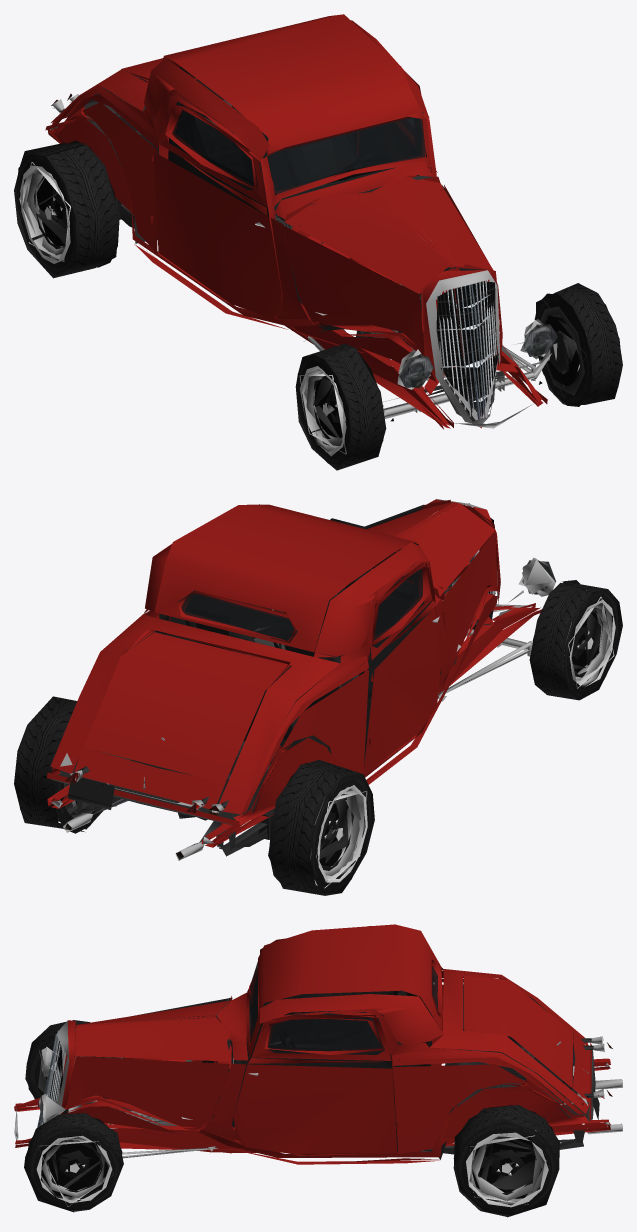
Rendered from coupe-33-hotrod-lite.glb.
3 views of the same model, one above another, from view 1: azimuth 30°, elevation 25°; view 2: azimuth 150°, elevation 25°; view 3: azimuth 270°, elevation 25° (orthographic). The views are drawn at different scales.
Parts seen in each view (by area): view 1: HOTROD_33_WheelCustom_FL_RB1c_Tire_1k_0; view 2: HOTROD_33_WheelCustom_FL_RB1c_Tire_1k_0; view 3: HOTROD_33_WheelCustom_FL_RB1c_Tire_1k_0.
Part boxes in pixels (left/top/right/bottom): HOTROD_33_WheelCustom_FL_RB1c_Tire_1k_0: left=14, top=14, right=622, bottom=470; HOTROD_33_WheelCustom_FL_RB1c_Tire_1k_0: left=14, top=499, right=622, bottom=895; HOTROD_33_WheelCustom_FL_RB1c_Tire_1k_0: left=14, top=924, right=622, bottom=1217.
Size of the model in its own units: 2.1 by 1.68 by 4.5.
Materials: 8 (7 with a texture image).
